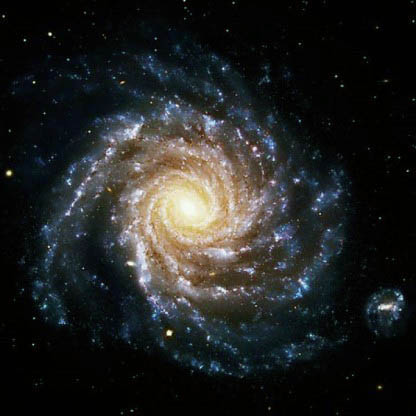NGC 1232: (35, 39, 408, 384)
